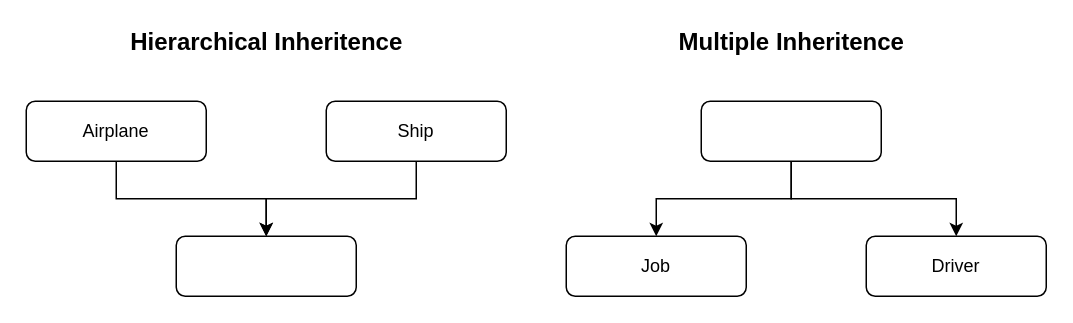
Some shapes in this 1073 by 323 pixel diagram are drawn without their labels. Here are the shapes that lost their labels. From the top down, the centre of each, then its label:
point (790, 130): Person
point (265, 265): Vehicle
